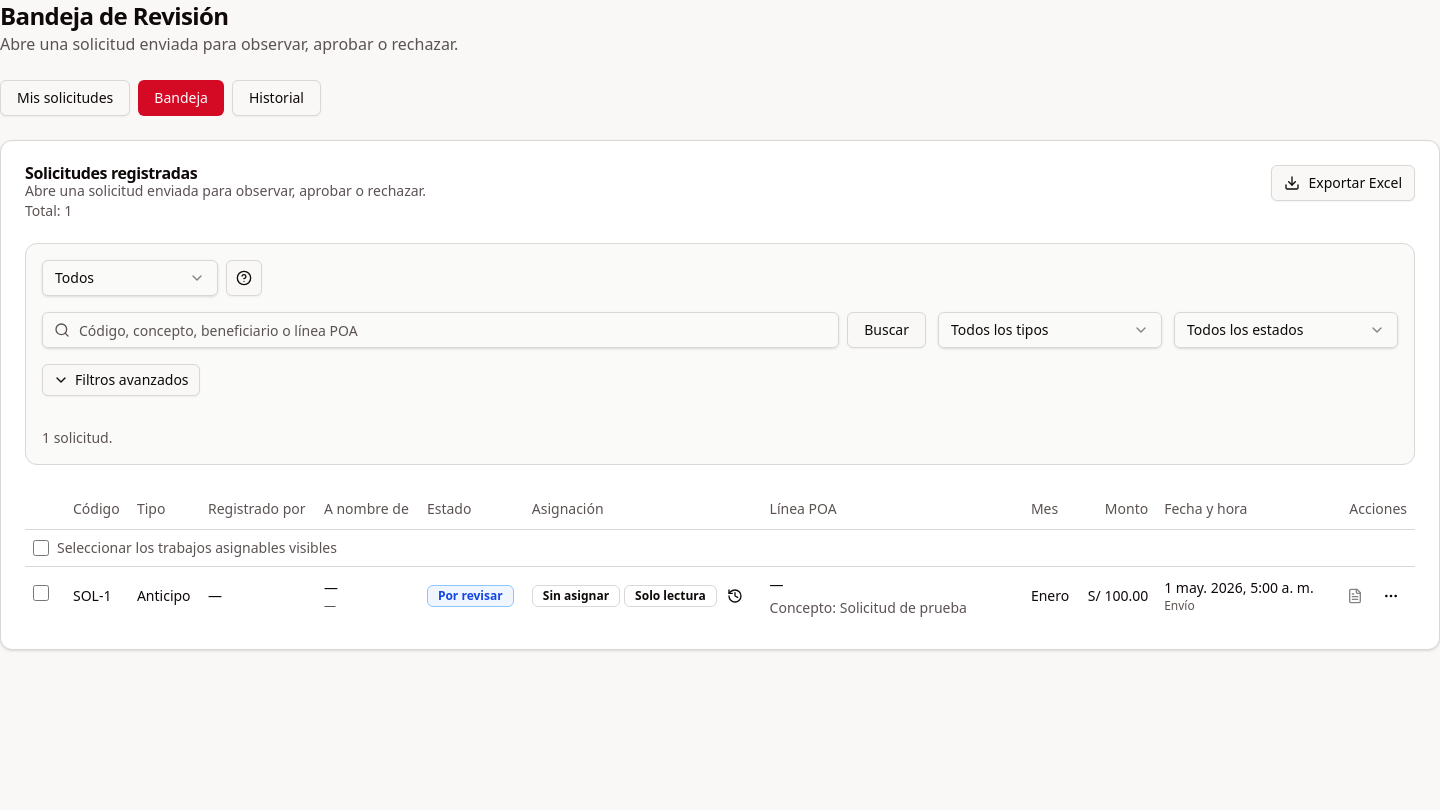
it: RequestsPage › integra selección Gestor REQUEST con el selector dirigido unificado
This screenshot has width=1440, height=810.
Click the checkbox named "Seleccionar SOL-1 para asignar".
click(41, 593)  # box [33,585,49,601]
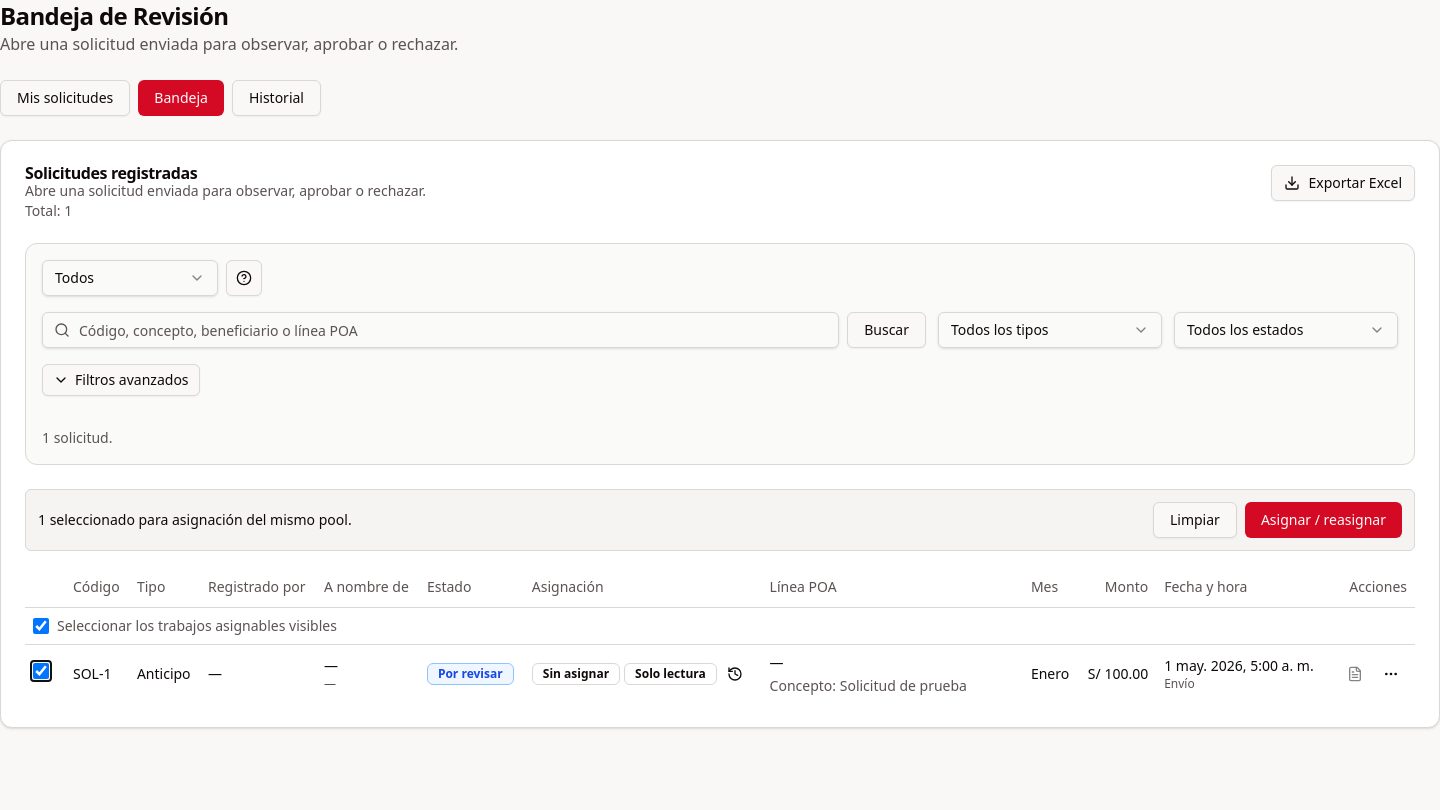
Click the button "Asignar / reasignar".
click(1323, 520)  # box [1245,502,1402,538]
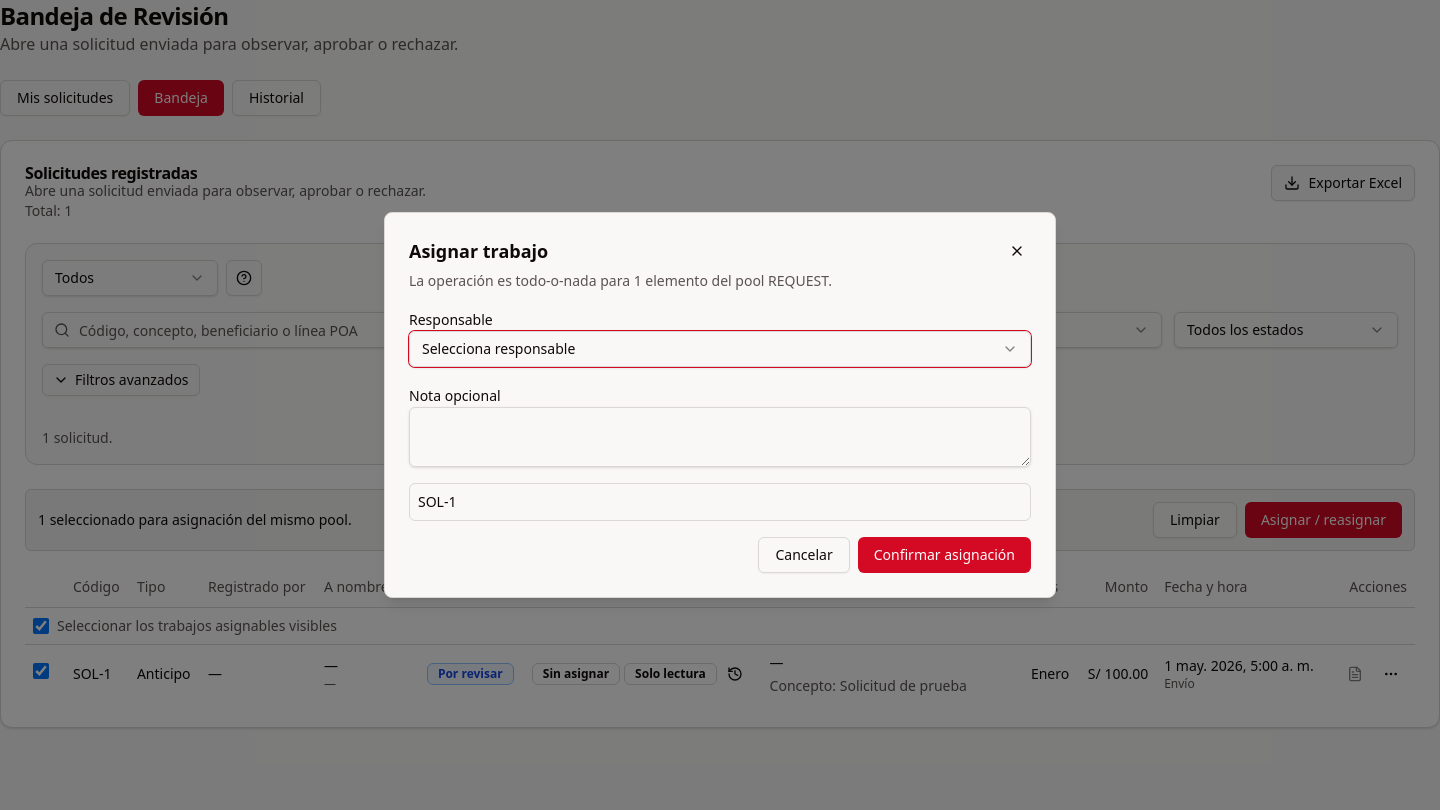
Expected: the text "Responsable" is shown, [409,310,493,329]
Expected: the text "todo-o-nada" is shown, [409,271,634,290]
